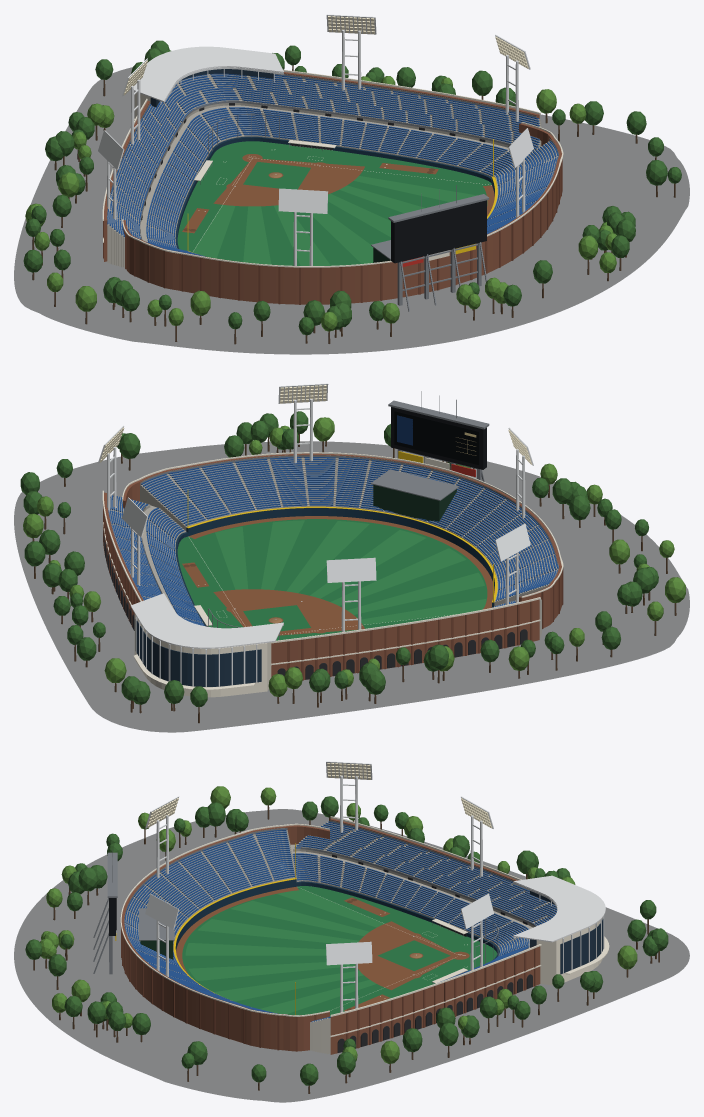
The model's file is jingu.obj.
3 views of the same model, one above another, from view 1: azimuth 30°, elevation 25°; view 2: azimuth 150°, elevation 25°; view 3: azimuth 270°, elevation 25° (orthographic). The views are drawn at different scales.
Visible parts, largest first — view 1: ground_apron, outer_wall_outfield, stand_first, tree_crowns_a, turf_base, stand_backstop, stand_third, turf_stripes, scoreboard, tree_crowns_b, light_towers, main_roof (+11 smaller); view 2: ground_apron, tree_crowns_a, turf_base, stand_outfield_right, turf_stripes, outer_wall_infield, stand_outfield_left, tree_crowns_b, light_towers, scoreboard, stand_first, main_building_glass (+15 smaller); view 3: ground_apron, turf_base, tree_crowns_a, stand_third, turf_stripes, stand_outfield_left, outer_wall_outfield, outer_wall_infield, light_towers, tree_crowns_b, stand_backstop, main_roof (+18 smaller).
Boxes of the visible parts, left/top/right/bottom form: ground_apron: left=14, top=67, right=689, bottom=354; outer_wall_outfield: left=123, top=123, right=562, bottom=304; stand_first: left=254, top=81, right=541, bottom=177; tree_crowns_a: left=23, top=40, right=681, bottom=335; turf_base: left=177, top=141, right=491, bottom=265; stand_backstop: left=139, top=73, right=373, bottom=160; stand_third: left=107, top=119, right=209, bottom=267; turf_stripes: left=193, top=176, right=476, bottom=265; scoreboard: left=388, top=185, right=489, bottom=311; tree_crowns_b: left=25, top=76, right=616, bottom=331; light_towers: left=98, top=14, right=533, bottom=265; main_roof: left=130, top=46, right=283, bottom=102; ground_apron: left=14, top=441, right=689, bottom=732; tree_crowns_a: left=20, top=411, right=658, bottom=706; turf_base: left=177, top=519, right=487, bottom=640; stand_outfield_right: left=140, top=457, right=433, bottom=530; turf_stripes: left=215, top=520, right=486, bottom=624; outer_wall_infield: left=104, top=492, right=539, bottom=679; stand_outfield_left: left=404, top=470, right=558, bottom=606; tree_crowns_b: left=23, top=417, right=685, bottom=696; light_towers: left=98, top=383, right=533, bottom=631; scoreboard: left=388, top=391, right=489, bottom=481; stand_first: left=108, top=495, right=204, bottom=625; main_building_glass: left=135, top=619, right=261, bottom=686; ground_apron: left=14, top=809, right=689, bottom=1102; turf_base: left=182, top=886, right=497, bottom=1016; tree_crowns_a: left=25, top=796, right=668, bottom=1085; stand_third: left=290, top=821, right=511, bottom=937; turf_stripes: left=185, top=889, right=384, bottom=1013; stand_outfield_left: left=124, top=829, right=296, bottom=945; outer_wall_outfield: left=121, top=825, right=329, bottom=1051; outer_wall_infield: left=330, top=818, right=540, bottom=1054; light_towers: left=145, top=761, right=493, bottom=1012; tree_crowns_b: left=40, top=786, right=637, bottom=1063; stand_backstop: left=474, top=876, right=557, bottom=967; main_roof: left=513, top=875, right=605, bottom=942.
Size of the model in its own units: 293 by 48.03 by 285.
